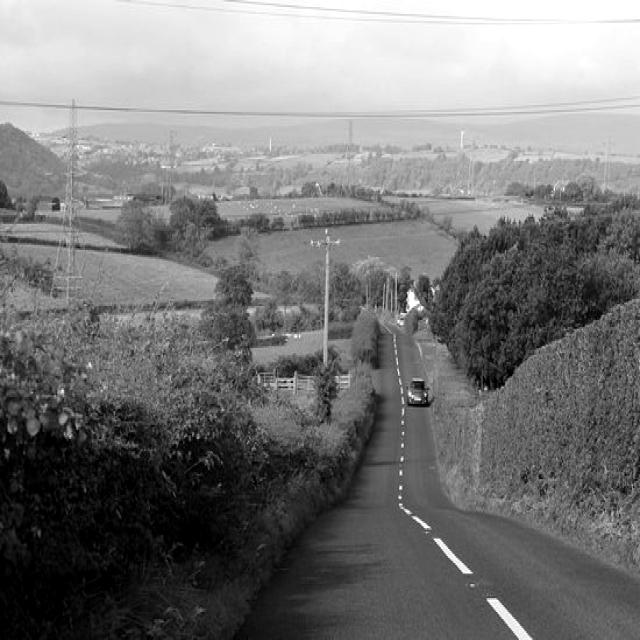cleat: (266, 229, 640, 640)
